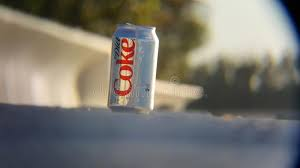can: (107, 20, 159, 117)
